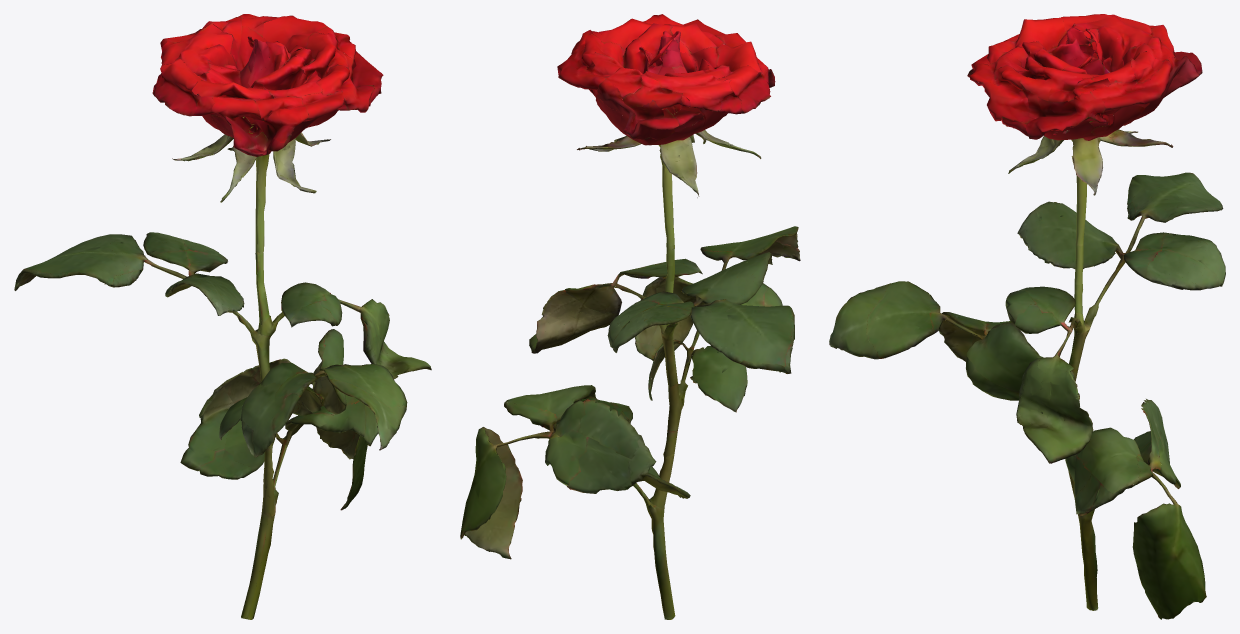
Rendered from rose.glb.
3 views of the same model, side by side, from view 1: azimuth 30°, elevation 25°; view 2: azimuth 150°, elevation 25°; view 3: azimuth 270°, elevation 25° (orthographic).
Visible parts, largest first — view 1: Object_0; view 2: Object_0; view 3: Object_0.
Part boxes in pixels (x1,y1,x2,y2): Object_0: (14, 14, 431, 619); Object_0: (460, 14, 800, 619); Object_0: (829, 14, 1225, 619).
Size of the model in its own units: 0.1819 by 0.3 by 0.1853.
1 material, 1 textured.
